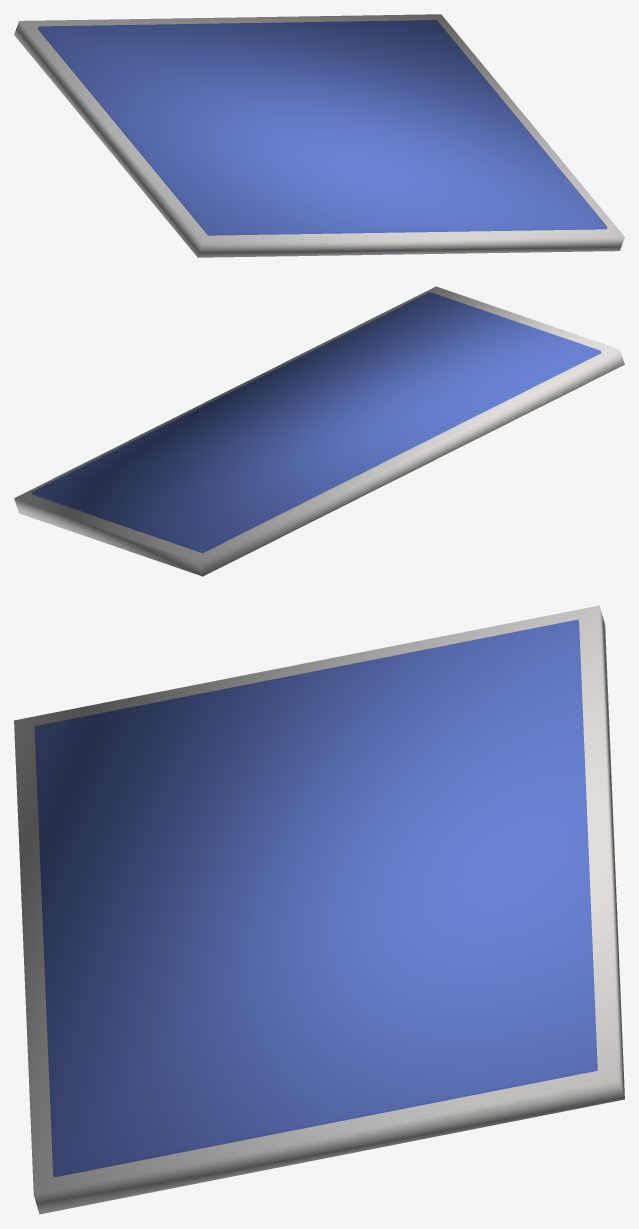
The model's file is solar_panel.glb.
The picture shows the model from 3 angles, top to bottom: view 1: azimuth 30°, elevation 25°; view 2: azimuth 210°, elevation 25°; view 3: azimuth 270°, elevation 25°; orthographic projection. The views are drawn at different scales.
Parts seen in each view (by area): view 1: cells, frame; view 2: cells, frame; view 3: cells, frame.
Part boxes in pixels (x1=…): cells: x1=37, y1=20, x2=607, y2=235; frame: x1=14, y1=14, x2=624, y2=257; cells: x1=31, y1=292, x2=601, y2=553; frame: x1=14, y1=286, x2=624, y2=576; cells: x1=34, y1=619, x2=597, y2=1177; frame: x1=14, y1=605, x2=624, y2=1214.
Size of the model in its own units: 1.8 by 0.7706 by 1.42.
